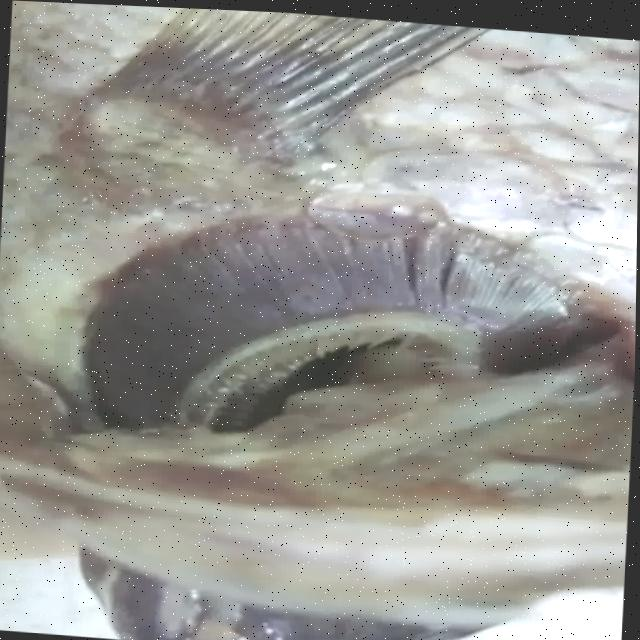Non-Fresh: (24, 172, 636, 482)
